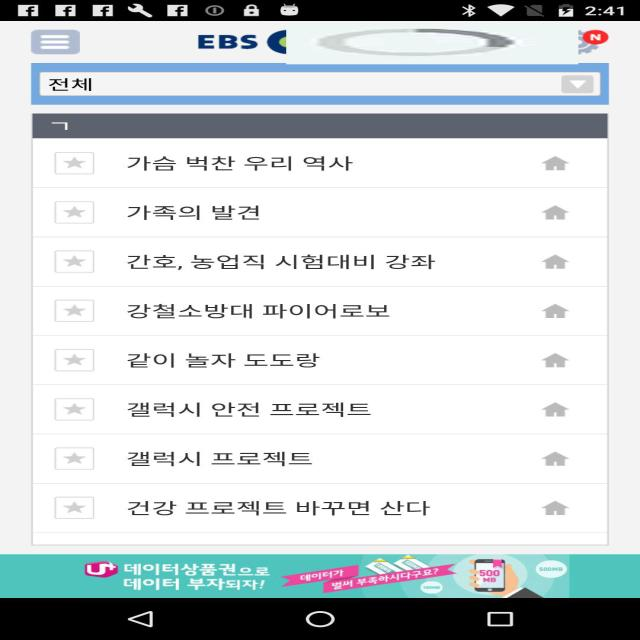misdirection: (286, 24, 578, 64)
